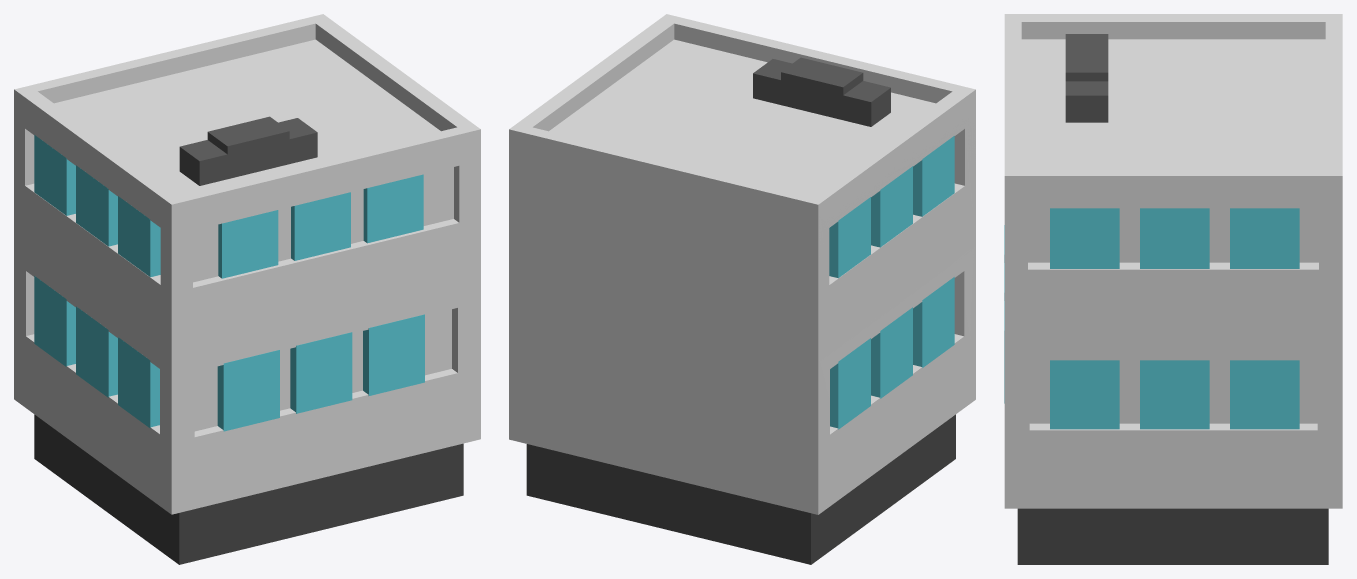
Rendered from MiddleHouse.fbx.
The picture shows the model from 3 angles, left to right: view 1: azimuth 30°, elevation 25°; view 2: azimuth 150°, elevation 25°; view 3: azimuth 270°, elevation 25°; orthographic projection. The views are drawn at different scales.
Parts seen in each view (by area): view 1: polySurface7, pCube53, polySurface8, polySurface6; view 2: polySurface7, polySurface8, pCube53, polySurface6; view 3: polySurface7, pCube53, polySurface8, polySurface6.
Part boxes in pixels (x1=…): polySurface7: x1=14, y1=14, x2=480, y2=514; pCube53: x1=34, y1=135, x2=424, y2=431; polySurface8: x1=34, y1=414, x2=463, y2=564; polySurface6: x1=179, y1=116, x2=317, y2=185; polySurface7: x1=509, y1=14, x2=975, y2=514; polySurface8: x1=526, y1=414, x2=955, y2=564; pCube53: x1=829, y1=136, x2=954, y2=429; polySurface6: x1=753, y1=57, x2=890, y2=126; polySurface7: x1=1004, y1=14, x2=1342, y2=508; pCube53: x1=1004, y1=208, x2=1299, y2=429; polySurface8: x1=1017, y1=508, x2=1328, y2=564; polySurface6: x1=1065, y1=34, x2=1108, y2=122.
Size of the model in its own units: 7.75 by 9.22 by 6.84.
